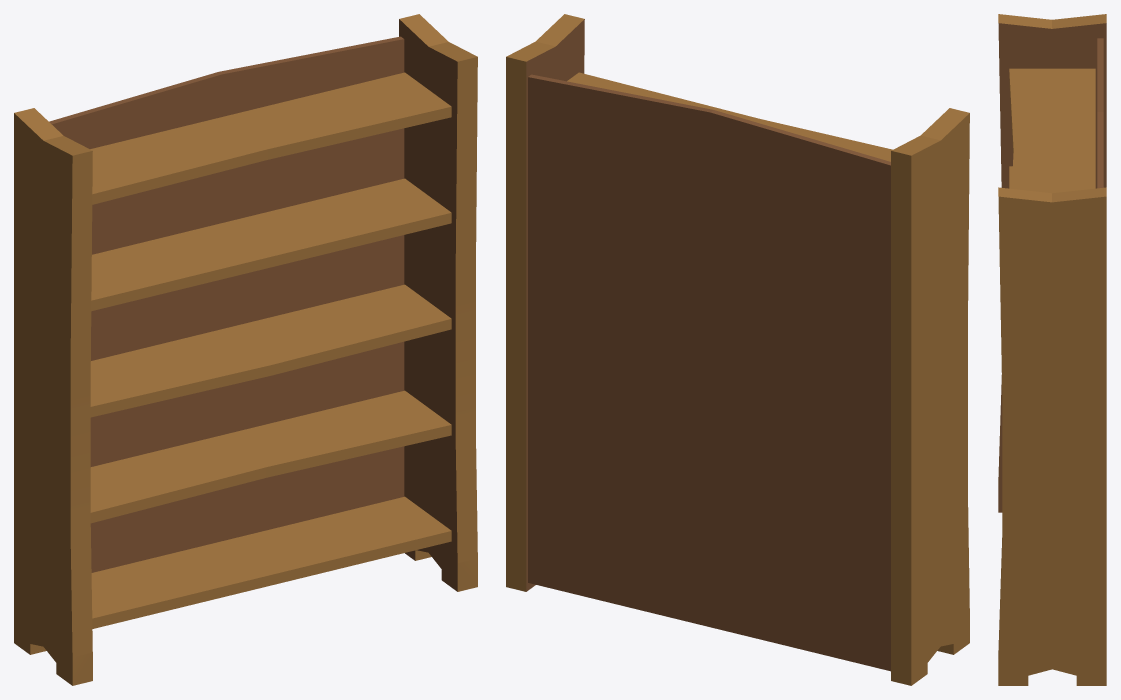
Rendered from fantasy_library.fbx.
3 views of the same model, side by side, from view 1: azimuth 30°, elevation 25°; view 2: azimuth 150°, elevation 25°; view 3: azimuth 270°, elevation 25° (orthographic). The views are drawn at different scales.
Visible parts, largest first — view 1: fantasy_library; view 2: fantasy_library; view 3: fantasy_library.
Boxes of the visible parts, bbox=[...] form: fantasy_library: bbox=[14, 14, 477, 685]; fantasy_library: bbox=[506, 14, 969, 685]; fantasy_library: bbox=[998, 14, 1106, 685].
Bounding box in the file's own units: 160 × 200 × 40.
